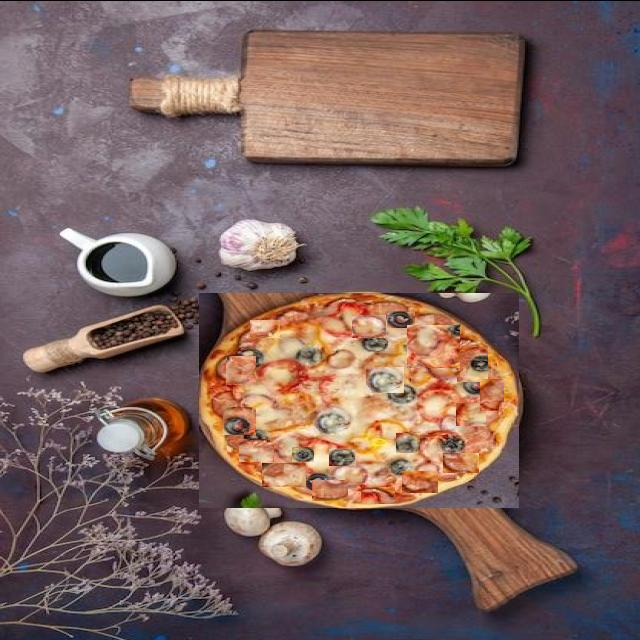basil: (370, 205, 541, 337)
olive: (366, 366, 404, 392), (454, 433, 484, 452), (303, 396, 330, 416), (396, 432, 420, 452), (387, 310, 415, 327), (329, 448, 356, 465), (229, 406, 252, 424), (450, 356, 479, 370), (304, 326, 329, 341), (252, 347, 275, 363), (292, 446, 314, 461)
pepperoni: (408, 322, 462, 367), (457, 346, 488, 381), (262, 462, 306, 486), (223, 406, 256, 434), (226, 355, 256, 384), (352, 313, 387, 337), (488, 418, 514, 450), (240, 438, 276, 461), (402, 470, 438, 492), (480, 378, 504, 410), (312, 479, 348, 500), (443, 452, 479, 472), (456, 402, 486, 425), (361, 486, 395, 503), (250, 319, 280, 337), (478, 420, 499, 443)
pizza: (199, 292, 519, 507)
